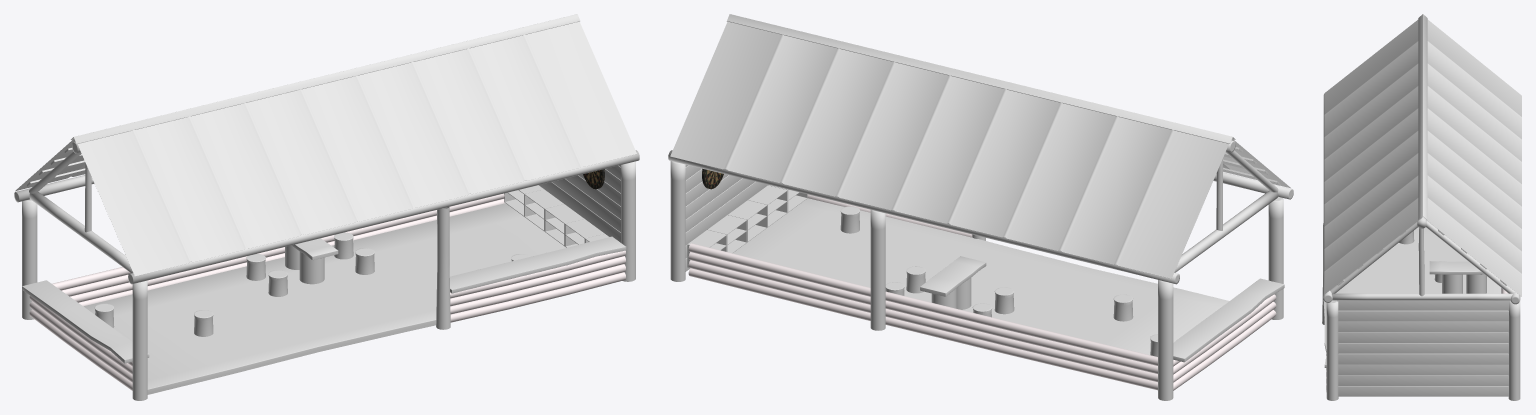
The model's file is wood cafe fianl re.fbx.
The picture shows the model from 3 angles, left to right: view 1: azimuth 30°, elevation 25°; view 2: azimuth 150°, elevation 25°; view 3: azimuth 270°, elevation 25°; orthographic projection. The views are drawn at different scales.
Visible parts, largest first — view 1: roof, base, wood colume, side cover trunk 1, side cover trunk and wood 3, roof SIDE round wood, table and seats, side cover trunk topwood 2, wall, shelves, side cover trunk top wood 1, side cover trunk 2 (+2 smaller); view 2: roof, base, side cover trunk and wood 3, wood colume, shelves, table and seats, roof SIDE round wood, wall, side cover trunk top wood 1, side cover trunk 2, roof support wood, table top (+1 smaller); view 3: roof, wall, base, roof support wood, wood colume, table and seats, table top, roof SIDE round wood.
Boxes of the visible parts, box(x1,y1,x2,y2) form: roof: box(15, 14, 636, 276); base: box(84, 203, 566, 394); wood colume: box(22, 161, 635, 400); side cover trunk 1: box(450, 250, 625, 322); side cover trunk and wood 3: box(52, 193, 505, 306); roof SIDE round wood: box(14, 150, 639, 284); table and seats: box(94, 232, 529, 336); side cover trunk topwood 2: box(449, 236, 626, 293); wall: box(539, 165, 620, 242); shelves: box(504, 185, 608, 247); side cover trunk top wood 1: box(22, 280, 149, 363); side cover trunk 2: box(29, 295, 132, 390); roof: box(670, 14, 1290, 278); base: box(733, 198, 1229, 354); side cover trunk and wood 3: box(688, 243, 1157, 390); wood colume: box(670, 161, 1283, 400); shelves: box(687, 185, 807, 267); table and seats: box(840, 206, 1157, 356); roof SIDE round wood: box(668, 150, 1293, 284); wall: box(685, 164, 768, 271); side cover trunk top wood 1: box(1173, 278, 1284, 362); side cover trunk 2: box(1173, 294, 1276, 390); roof support wood: box(1174, 140, 1278, 272); table top: box(920, 256, 986, 296); roof: box(1324, 14, 1521, 296); wall: box(1337, 300, 1510, 396); base: box(1335, 220, 1500, 293); roof support wood: box(1330, 217, 1514, 300); wood colume: box(1322, 223, 1520, 400); table and seats: box(1399, 231, 1486, 293); table top: box(1429, 261, 1484, 274); roof SIDE round wood: box(1323, 94, 1519, 304).
Size of the model in its own units: 1236 by 520 by 512.
9 materials, 1 textured.
